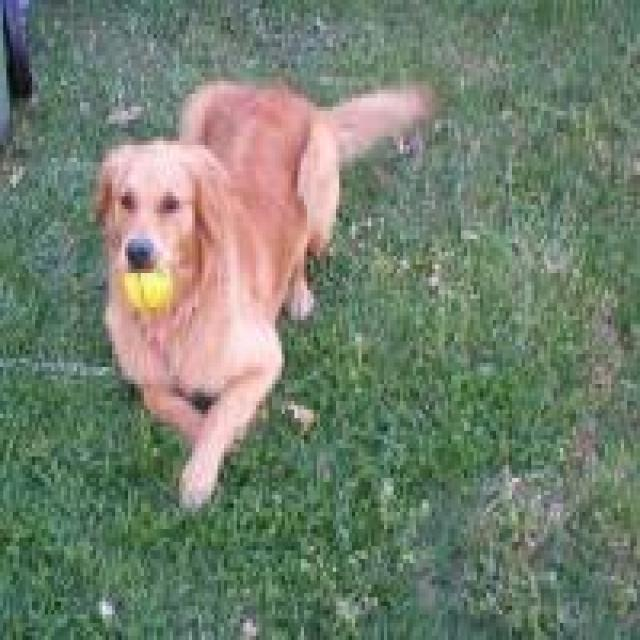dogs: (92, 75, 436, 513)
